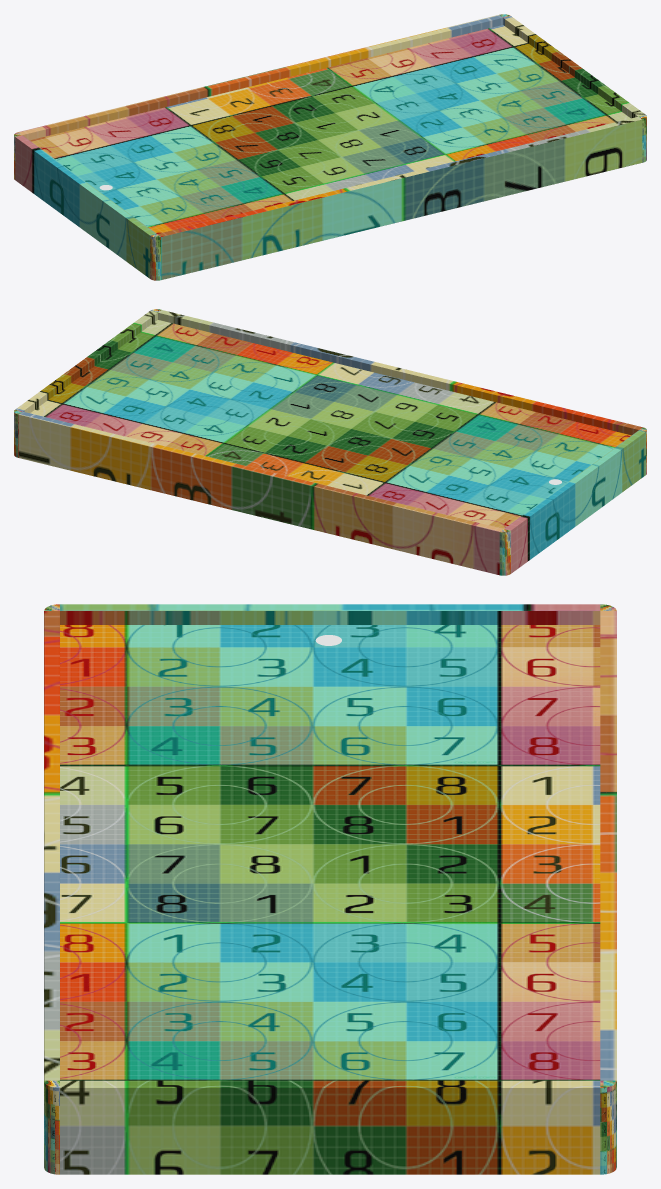
File: phone_uv_mapped.glb
The picture shows the model from 3 angles, top to bottom: view 1: azimuth 30°, elevation 25°; view 2: azimuth 150°, elevation 25°; view 3: azimuth 270°, elevation 25°; orthographic projection. The views are drawn at different scales.
Parts seen in each view (by area): view 1: Object_3; view 2: Object_3; view 3: Object_3.
Part boxes in pixels (x1,y1,x2,y2): Object_3: (14, 14, 646, 280); Object_3: (14, 309, 646, 575); Object_3: (44, 604, 616, 1174).
Bounding box in the file's own units: 18.5 × 1.81 × 9.26.
2 materials, 1 textured.
